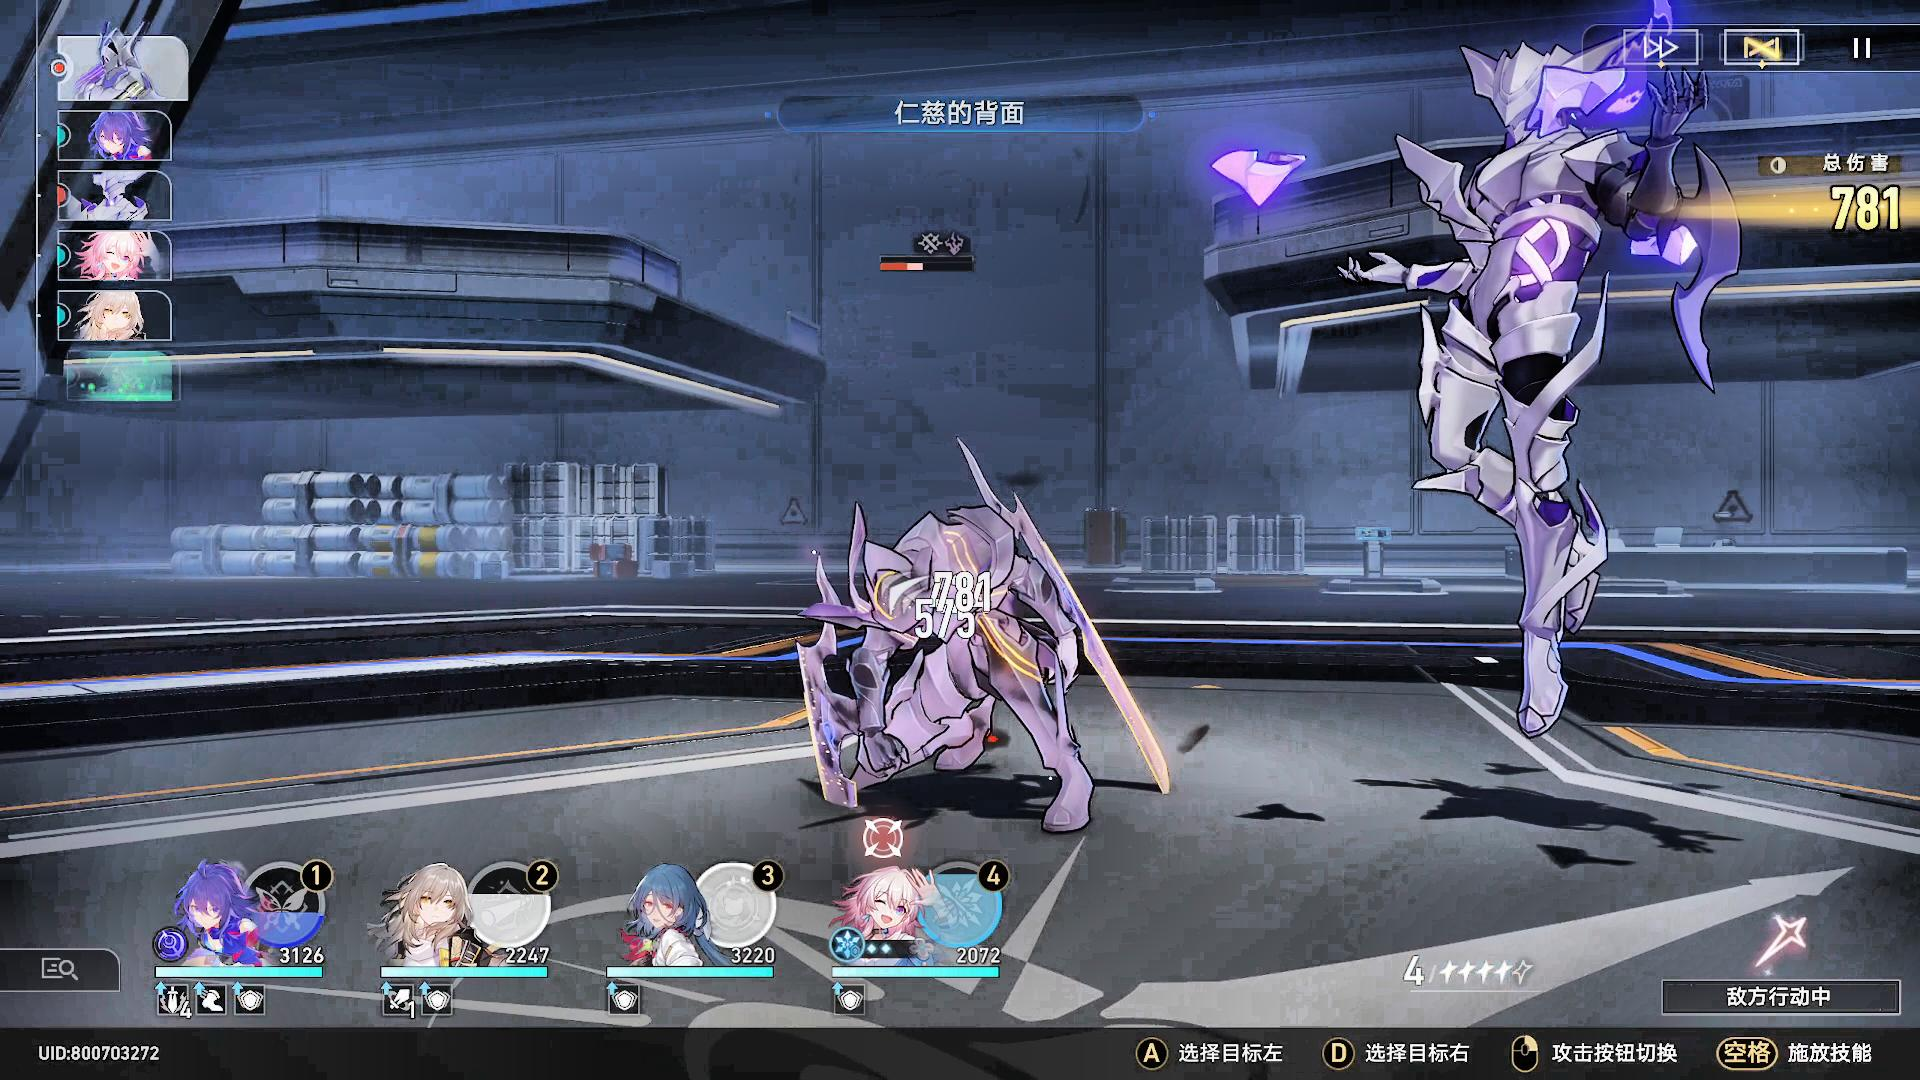Enemy: (1367, 13, 1750, 777), (754, 475, 1174, 858)
